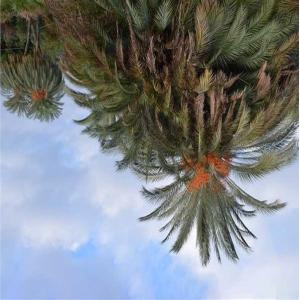palm tree: (1, 0, 299, 268)
